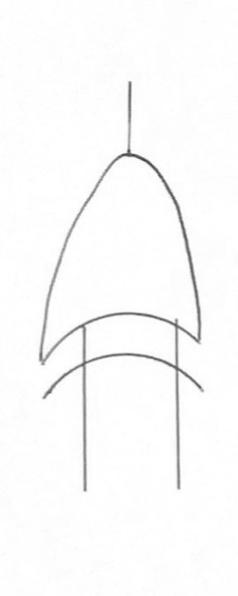XOR: (18, 139, 230, 404)
